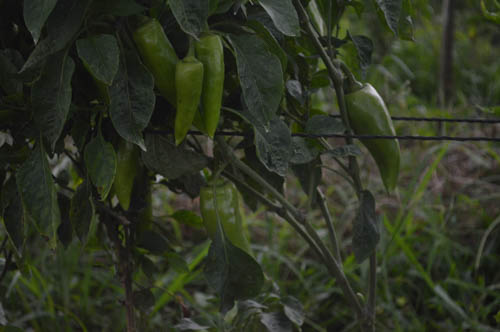ChiliPepper: (141, 25, 203, 130), (344, 86, 404, 193), (192, 37, 229, 137), (168, 59, 206, 152), (194, 183, 245, 252), (112, 148, 132, 208)
